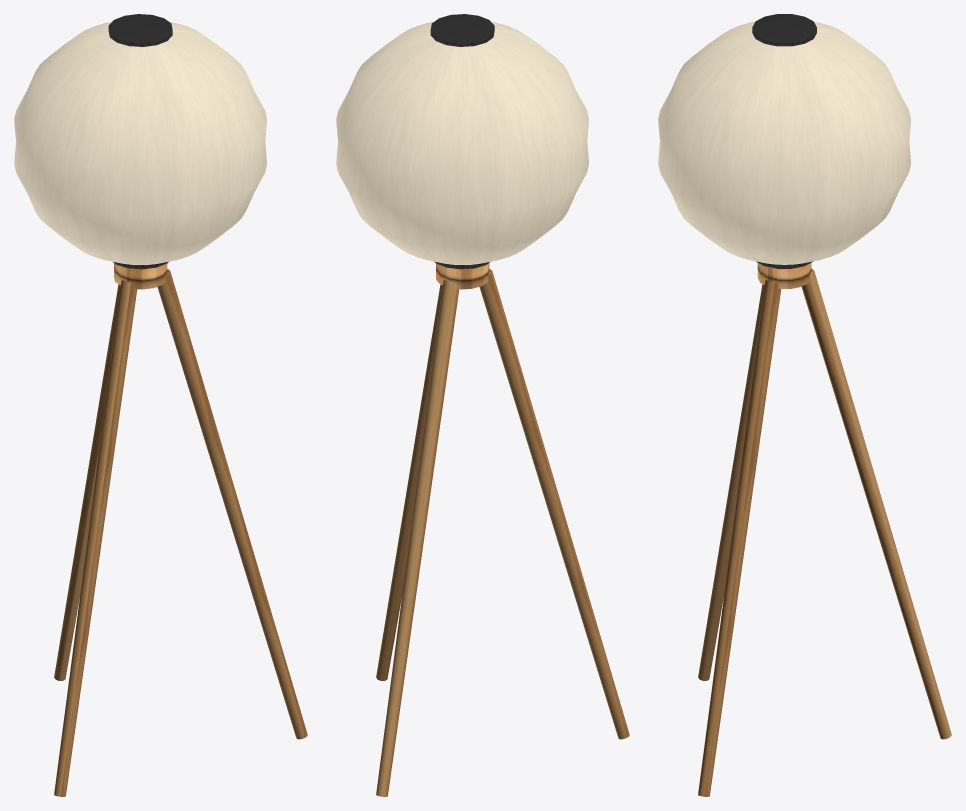
The model's file is paper_lantern_lamp.glb.
3 views of the same model, side by side, from view 1: azimuth 30°, elevation 25°; view 2: azimuth 150°, elevation 25°; view 3: azimuth 270°, elevation 25° (orthographic).
Visible parts, largest first — view 1: model; view 2: model; view 3: model.
Boxes of the visible parts, left/top/right/bottom form: model: left=14, top=14, right=307, bottom=796; model: left=336, top=14, right=629, bottom=796; model: left=658, top=14, right=951, bottom=796.
Size of the model in its own units: 0.5413 by 1.46 by 0.5459.
3 materials, 3 textured.
